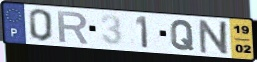0: (28, 8, 55, 43)
1: (134, 15, 150, 50)
3: (100, 14, 125, 47)
N: (198, 19, 231, 56)
Q: (169, 18, 195, 52)
R: (56, 9, 91, 45)
